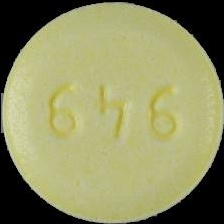0555-9009: (0, 0, 224, 224)
